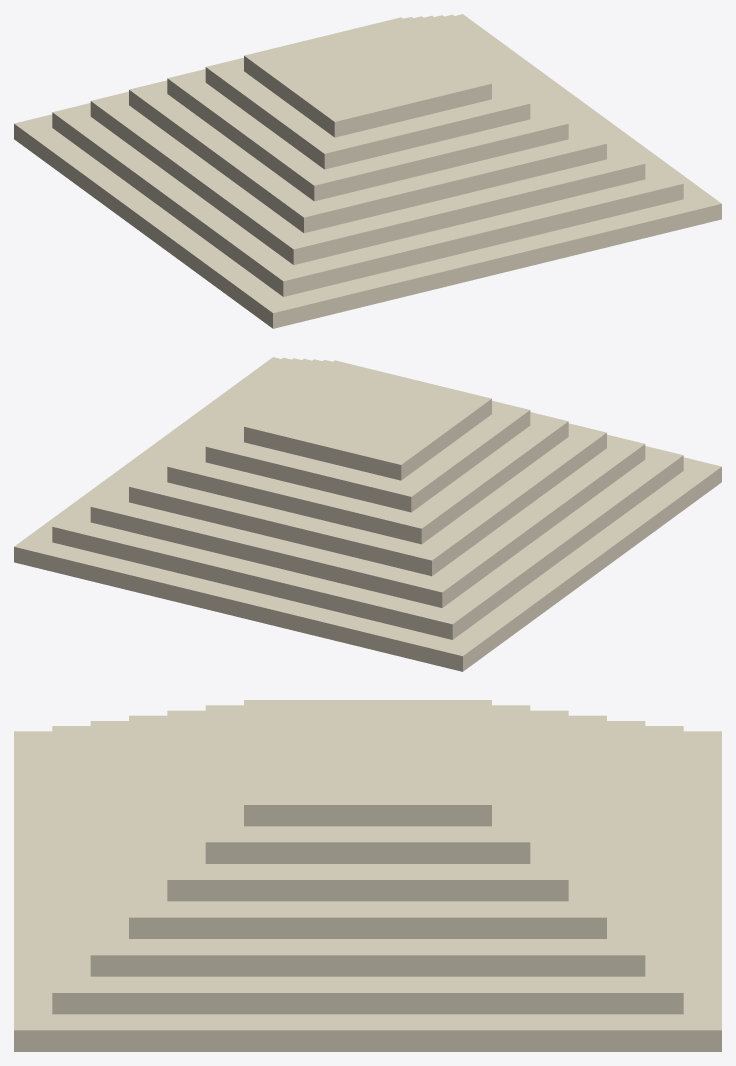
Rendered from place-tonina-acropolis.glb.
The picture shows the model from 3 angles, top to bottom: view 1: azimuth 30°, elevation 25°; view 2: azimuth 150°, elevation 25°; view 3: azimuth 270°, elevation 25°; orthographic projection. The views are drawn at different scales.
Parts seen in each view (by area): view 1: place-tonina-acropolis; view 2: place-tonina-acropolis; view 3: place-tonina-acropolis.
Part boxes in pixels (x1,y1,x2,y2): place-tonina-acropolis: (14,14,721,328); place-tonina-acropolis: (14,357,721,671); place-tonina-acropolis: (14,700,721,1051).
Size of the model in its own units: 320 by 74.7 by 320.
